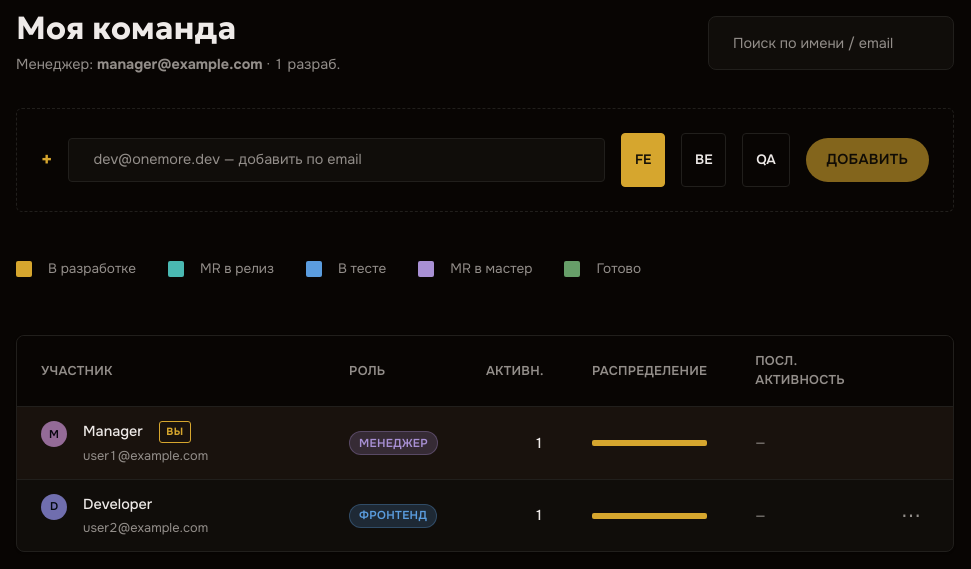
Test: TeamPage › shows empty state when filter returns zero results
Check: the text "Developer" is shown, box [83,495,152,513]
Type "nonexistent" into the field with placeholder "Поиск по имени / email" at [831, 43], box [708,16,954,70]
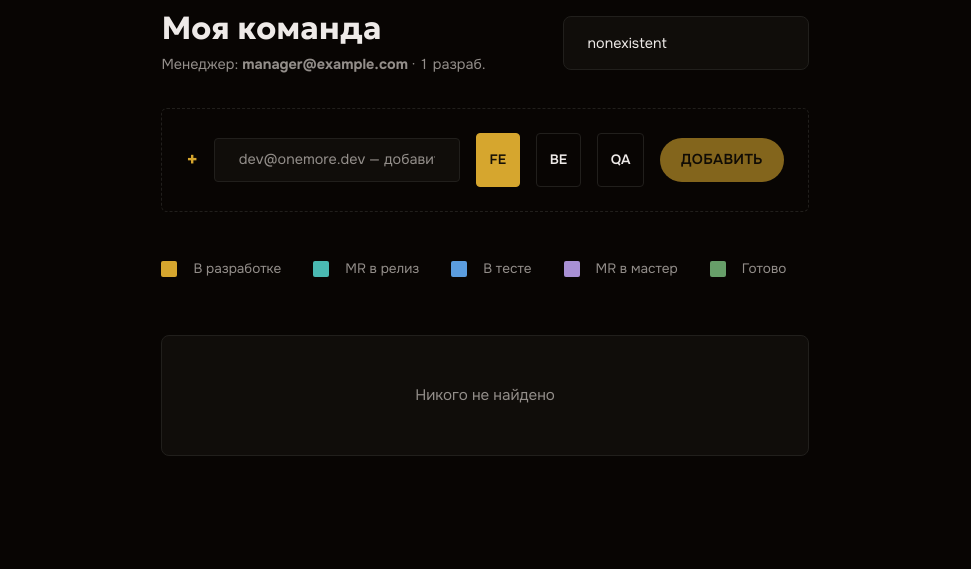
Check: the text "Никого не найдено" is shown, box [161,335,809,456]
